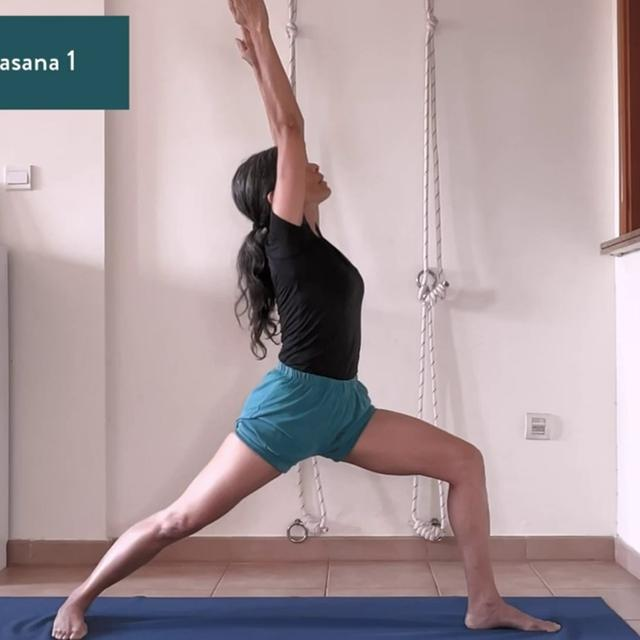Warrior_I: (42, 2, 570, 635)
